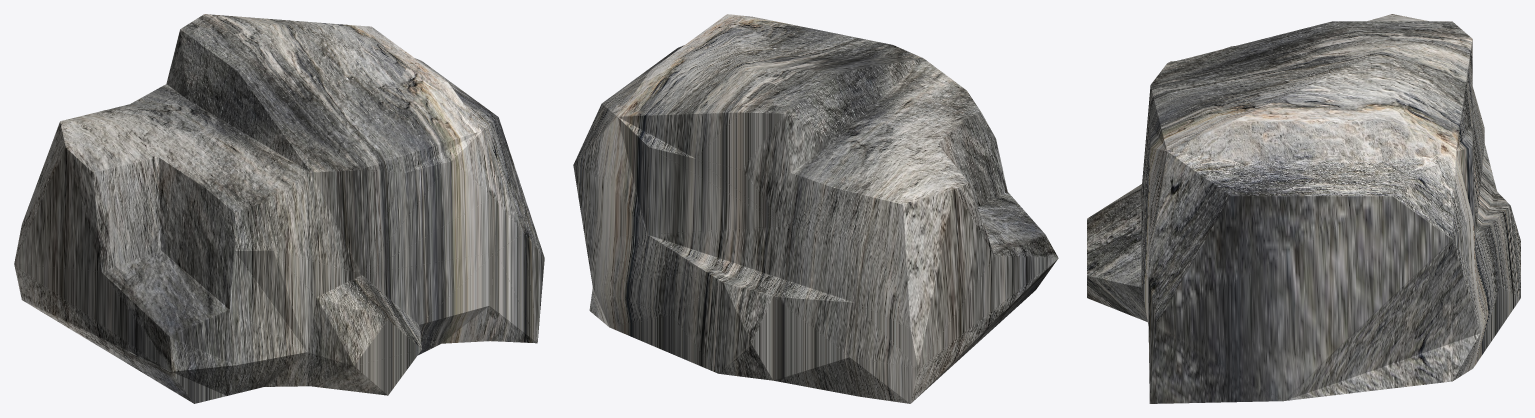
Rendered from PiedraCuatro.fbx.
The picture shows the model from 3 angles, left to right: view 1: azimuth 30°, elevation 25°; view 2: azimuth 150°, elevation 25°; view 3: azimuth 270°, elevation 25°; orthographic projection. The views are drawn at different scales.
Parts seen in each view (by area): view 1: Box005; view 2: Box005; view 3: Box005.
Part boxes in pixels (<box>): Box005: <box>14,14,544,403</box>; Box005: <box>573,14,1058,403</box>; Box005: <box>1087,14,1520,403</box>.
Size of the model in its own units: 0.5365 by 0.3676 by 0.5121.
